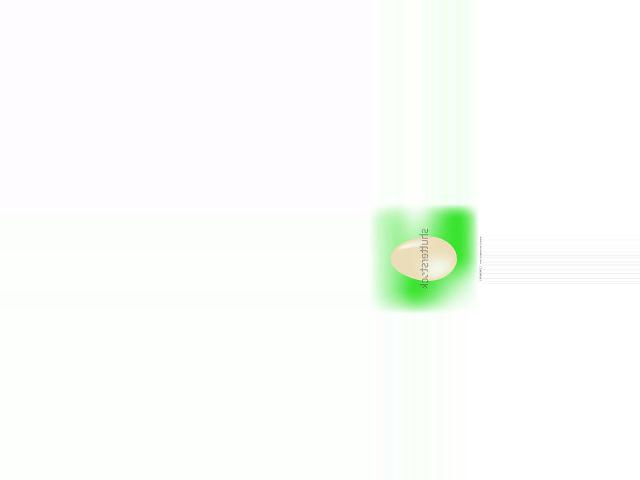egg: (390, 237, 456, 281)
